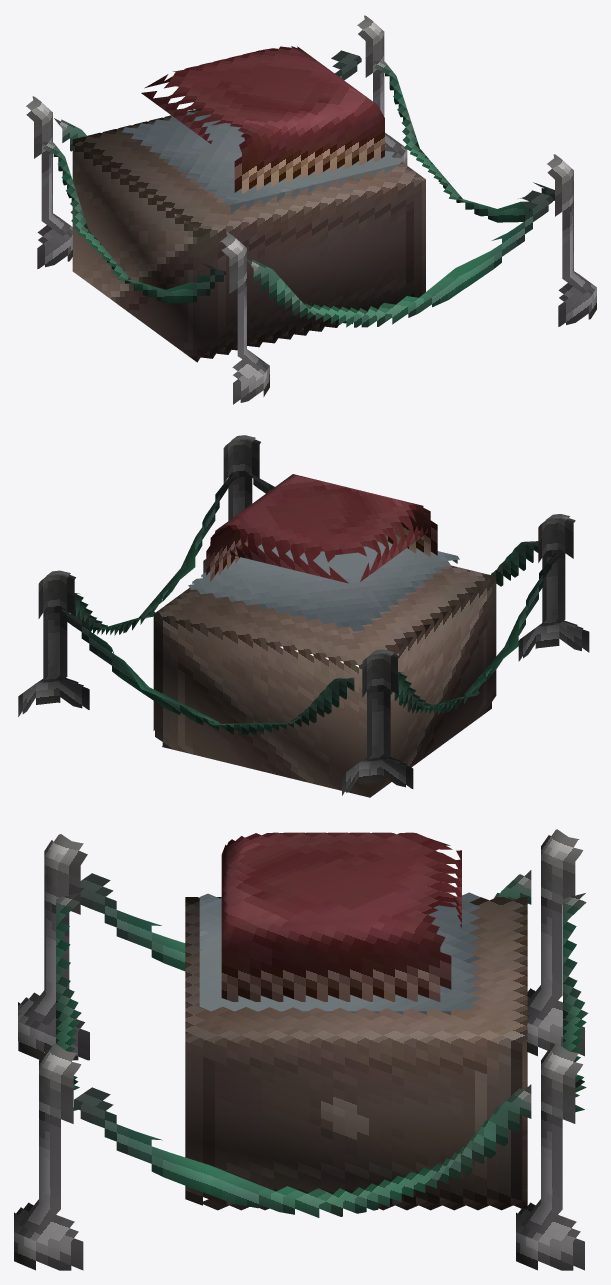
3 renders of one model, top to bottom at view 1: azimuth 30°, elevation 25°; view 2: azimuth 150°, elevation 25°; view 3: azimuth 270°, elevation 25°, orthographic. The views are drawn at different scales.
Parts seen in each view (by area): view 1: 25dBG_Basecamp01_DisplayStand_1, 25dBG_Basecamp01_DisplayStandBase, 25DBG_BaseCamp01_Prop_RopedBarrier_2; view 2: 25dBG_Basecamp01_DisplayStand_1, 25dBG_Basecamp01_DisplayStandBase, 25DBG_BaseCamp01_Prop_RopedBarrier_2; view 3: 25dBG_Basecamp01_DisplayStand_1, 25DBG_BaseCamp01_Prop_RopedBarrier_2, 25dBG_Basecamp01_DisplayStandBase.
Part boxes in pixels (x1,y1,x2,y2): 25dBG_Basecamp01_DisplayStand_1: (72, 108, 425, 362); 25dBG_Basecamp01_DisplayStandBase: (122, 46, 402, 213); 25DBG_BaseCamp01_Prop_RopedBarrier_2: (26, 15, 596, 404); 25dBG_Basecamp01_DisplayStand_1: (153, 565, 496, 797); 25dBG_Basecamp01_DisplayStandBase: (188, 474, 459, 631); 25DBG_BaseCamp01_Prop_RopedBarrier_2: (18, 435, 589, 795); 25dBG_Basecamp01_DisplayStand_1: (185, 897, 527, 1210); 25DBG_BaseCamp01_Prop_RopedBarrier_2: (14, 829, 588, 1270); 25dBG_Basecamp01_DisplayStandBase: (199, 832, 480, 1014).
Size of the model in its own units: 0.754 by 0.3881 by 0.7479.
1 material, 1 textured.
